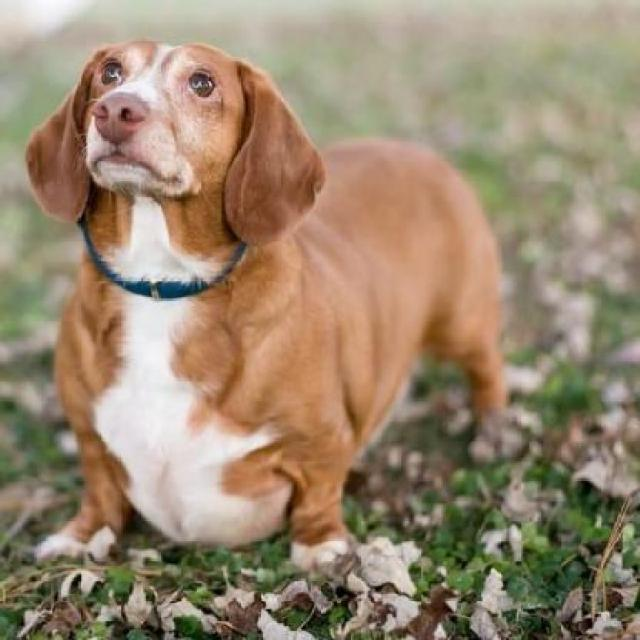Dog: (24, 31, 514, 571)
